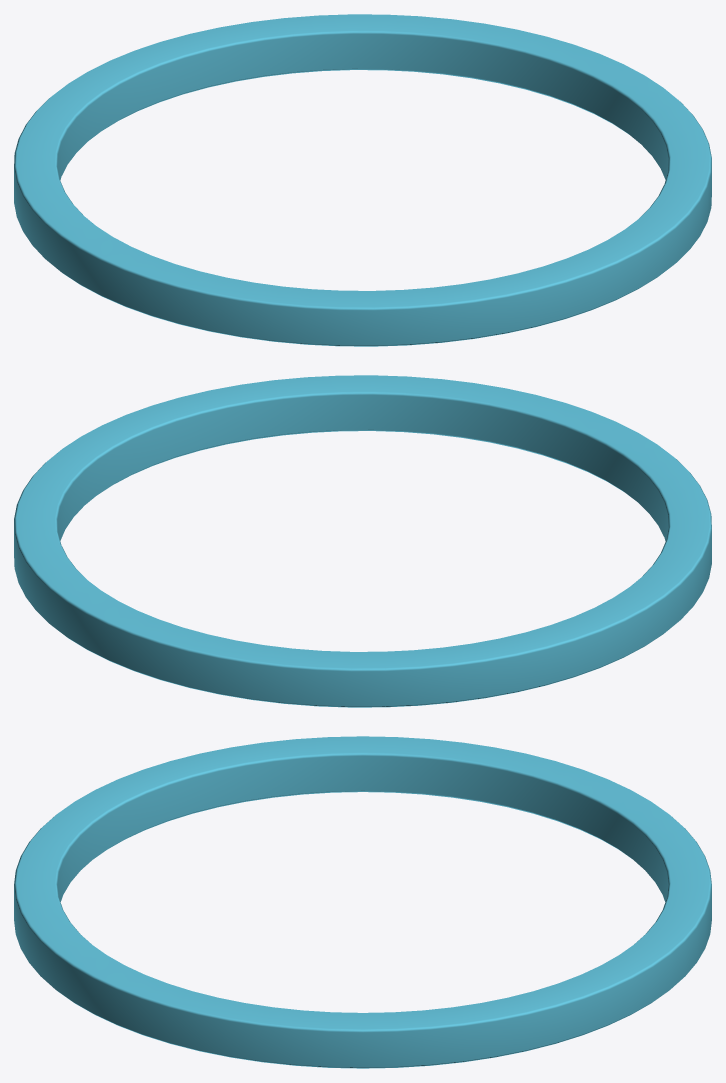
The picture shows the model from 3 angles, top to bottom: view 1: azimuth 30°, elevation 25°; view 2: azimuth 150°, elevation 25°; view 3: azimuth 270°, elevation 25°; orthographic projection.
Parts seen in each view (by area): view 1: seal_body; view 2: seal_body; view 3: seal_body.
Boxes of the visible parts, x1,y1,x2,y2 form: seal_body: (14,14,711,346); seal_body: (14,375,711,707); seal_body: (14,736,711,1068).
Bounding box in the file's own units: 0.0508 × 0.00317 × 0.0508.
